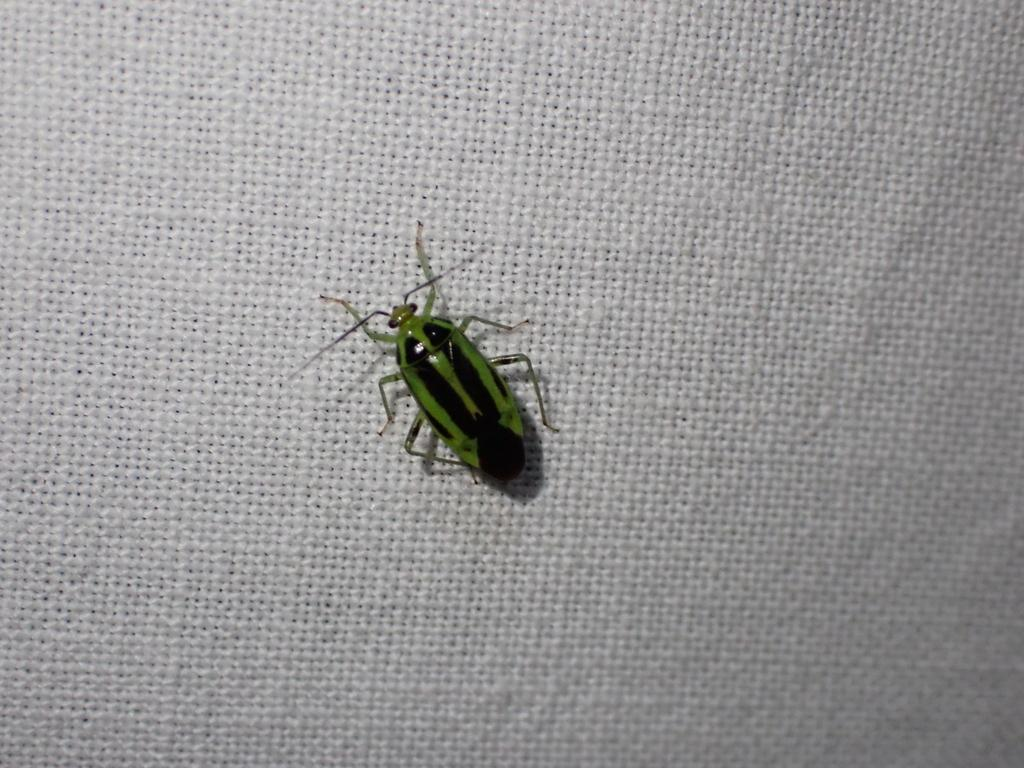plant_bugs: (256, 197, 633, 549)
